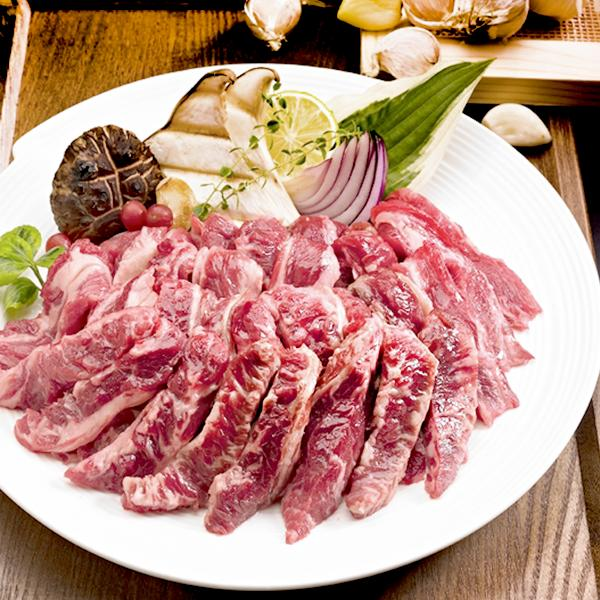beef: (39, 202, 447, 464)
